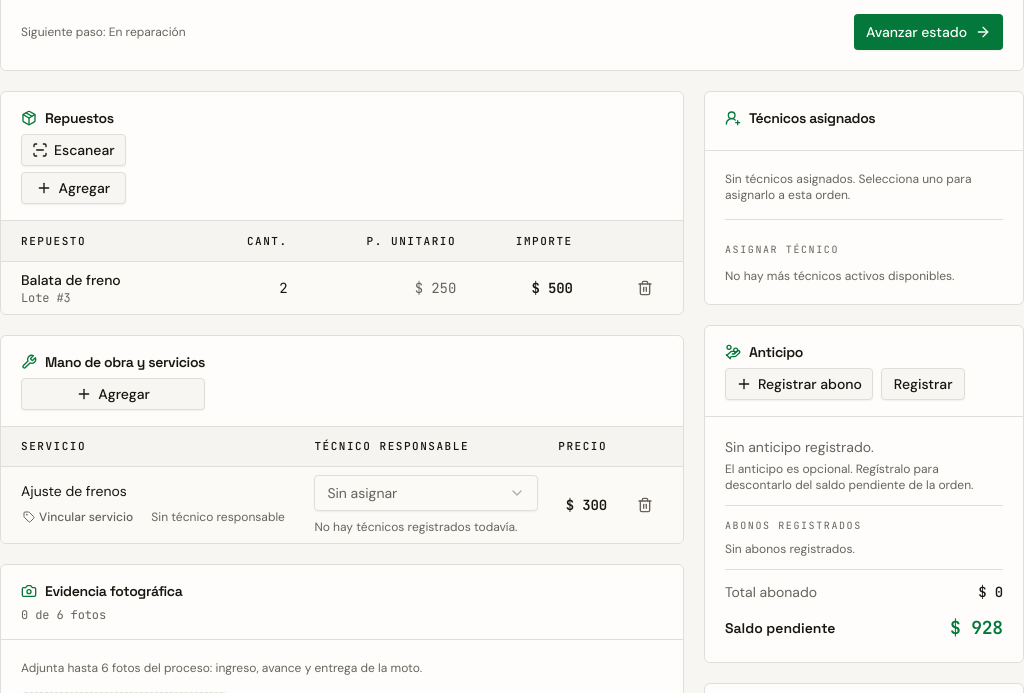
Test case: OrderDetailPage anticipo visibility seam (characterization) › keeps the advance dialog rejecting an amount above the order total
The image size is (1024, 693).
(page scrolled)
Step 1. Click the button with test id "order_detail.advance.edit_button" → (923, 384), box [881,368,966,400]
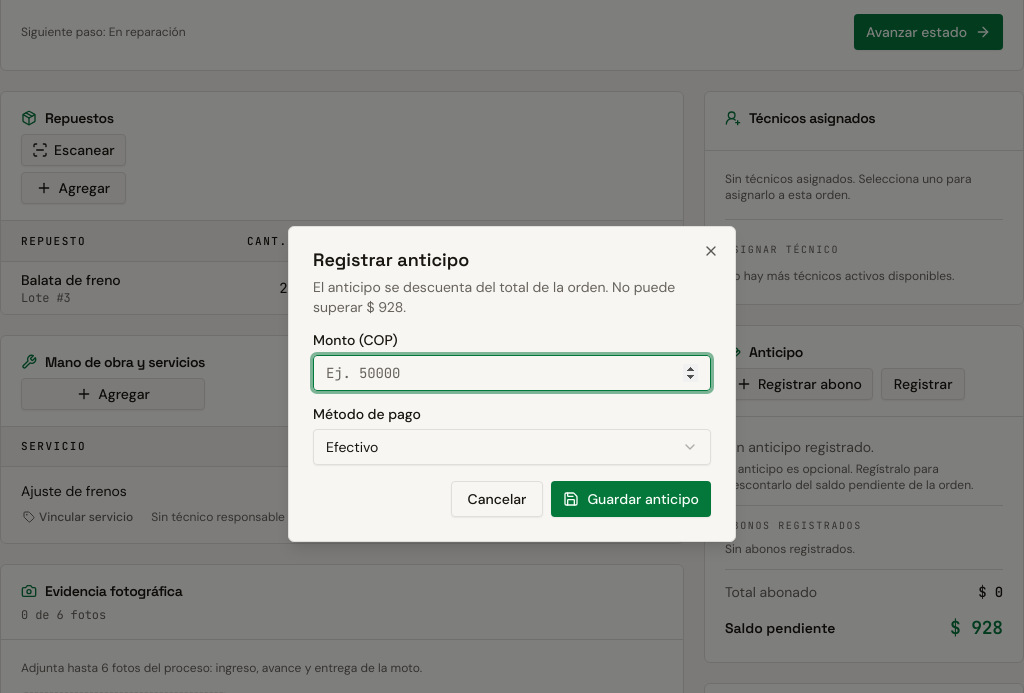
Step 2. Type "1000" into the number field with test id "order_detail.advance_dialog.amount_input" → (512, 373), box [313,355,711,391]
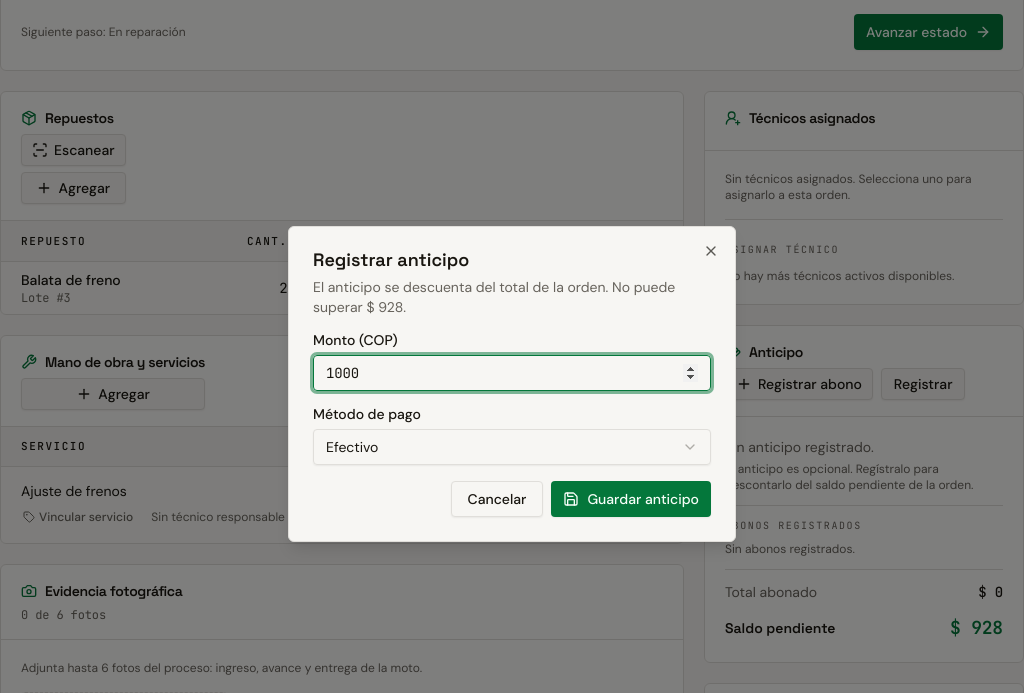
Step 3. Click the button with test id "order_detail.advance_dialog.save_button" → (631, 499), box [551,481,711,517]
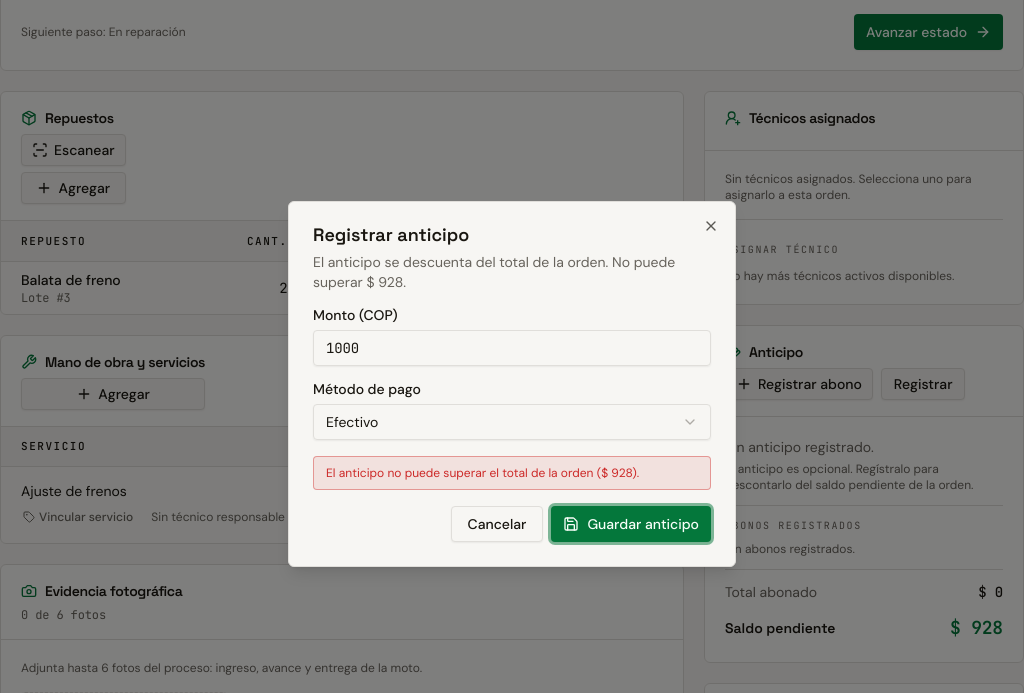
Expected: the text with test id "order_detail.advance_dialog.error_state" shows "no puede superar el total de la orden", [326,465,639,481]
